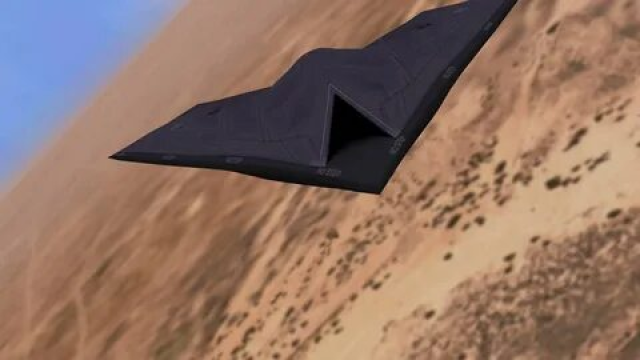military drone: (108, 0, 516, 194)
